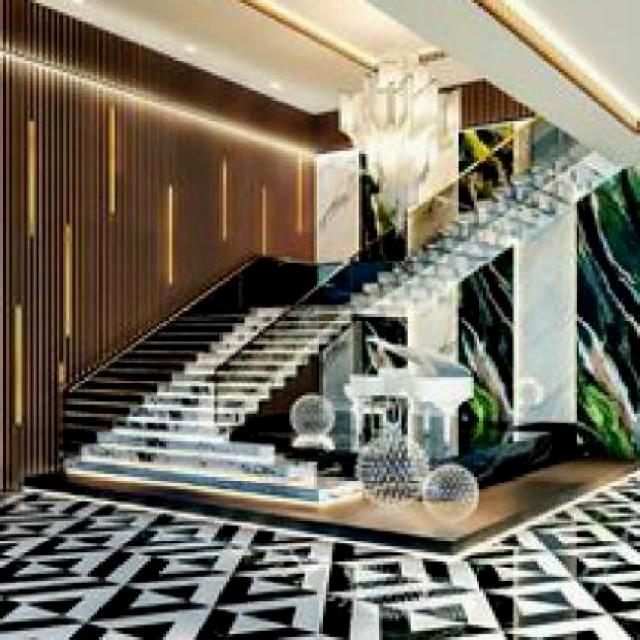stair: (74, 259, 368, 519)
